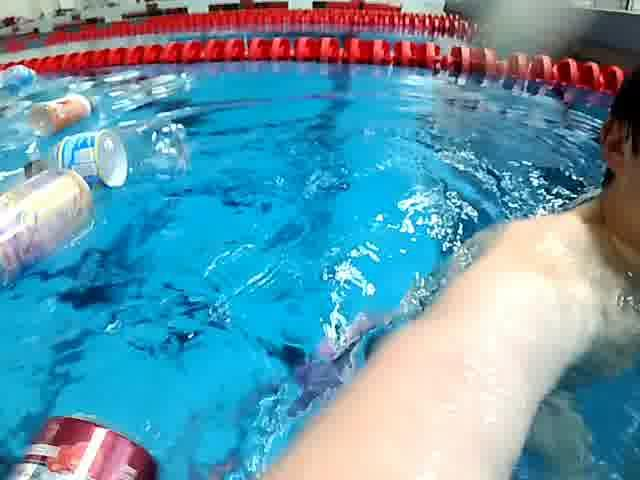Bottle: (21, 110, 199, 184), (36, 56, 192, 128)
Can: (0, 165, 99, 291), (5, 410, 160, 480)
